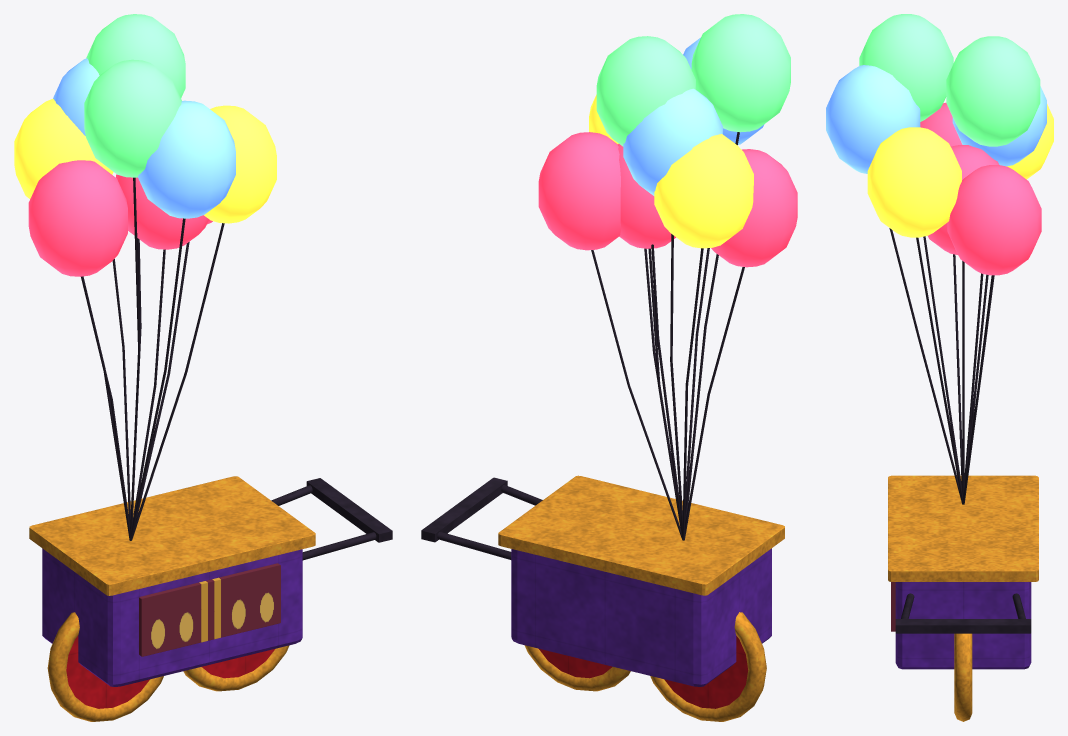
Rendered from MO_BalloonCart.fbx.
3 views of the same model, side by side, from view 1: azimuth 30°, elevation 25°; view 2: azimuth 150°, elevation 25°; view 3: azimuth 270°, elevation 25° (orthographic). The views are drawn at different scales.
Parts seen in each view (by area): view 1: MO_BalloonCart; view 2: MO_BalloonCart; view 3: MO_BalloonCart.
Boxes of the visible parts, <box> form: MO_BalloonCart: <box>14,14,392,721</box>; MO_BalloonCart: <box>421,14,797,721</box>; MO_BalloonCart: <box>826,14,1053,721</box>.
Size of the model in its own units: 2.34 by 4.67 by 1.51.
